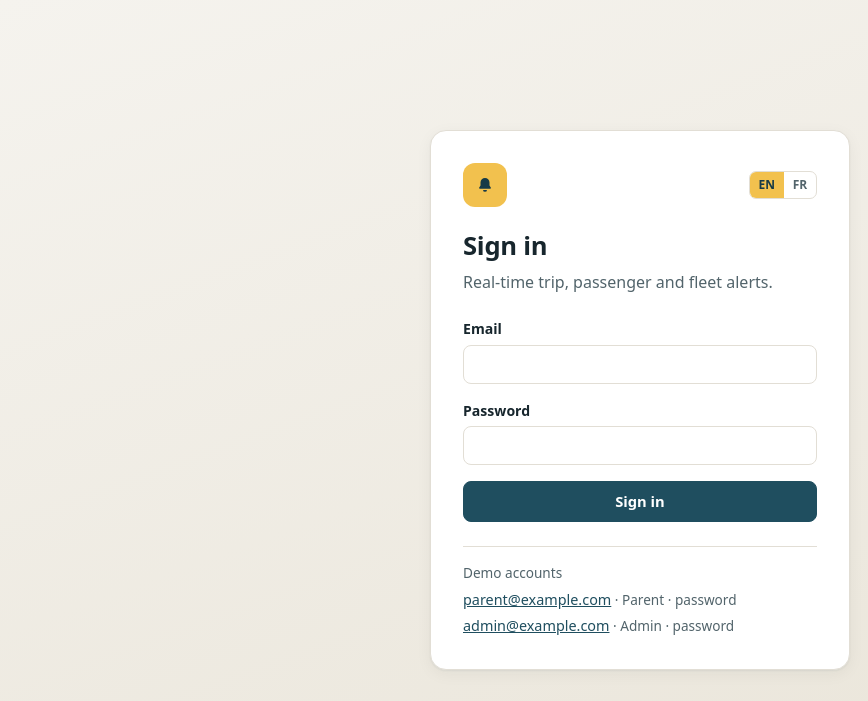
it: LoginPage › can be displayed in French
Click the button "FR".
click(800, 186)  # box [784,172,816,198]
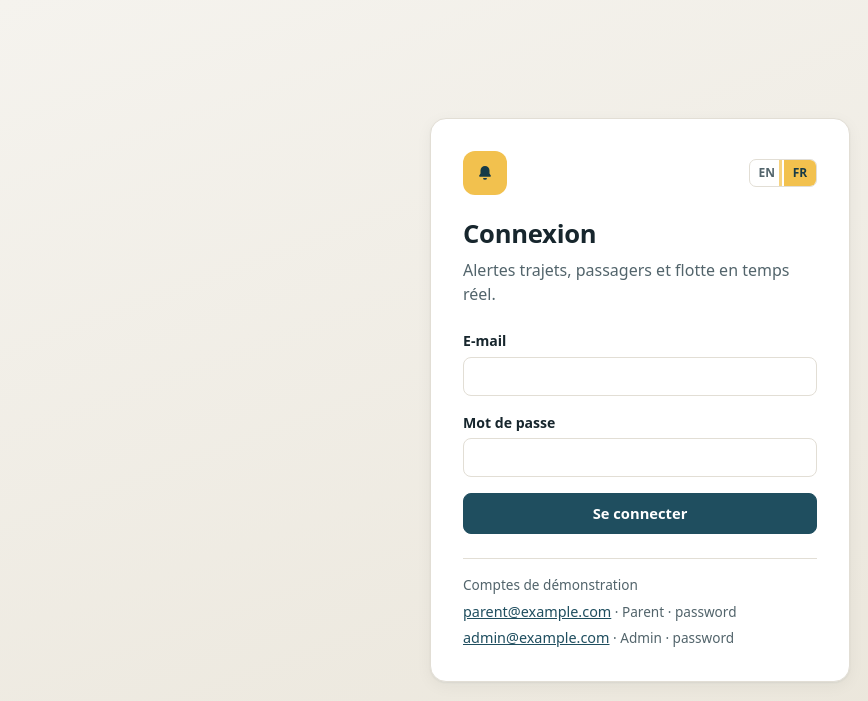
Expected: the password field labelled "Mot de passe" is shown, [463,438,817,478]
Now the heading "Connexion" is shown, box [463,216,596,252]
